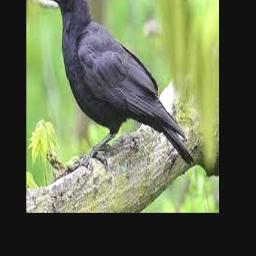Crow: (43, 0, 194, 167)
